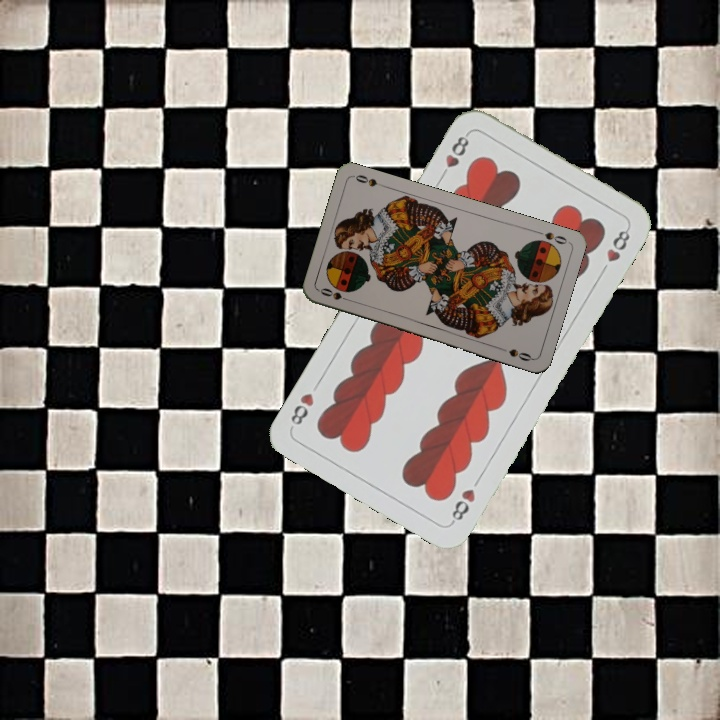H8: (436, 129, 472, 182), (447, 484, 478, 527)
SO: (531, 226, 570, 247), (316, 284, 356, 304)
